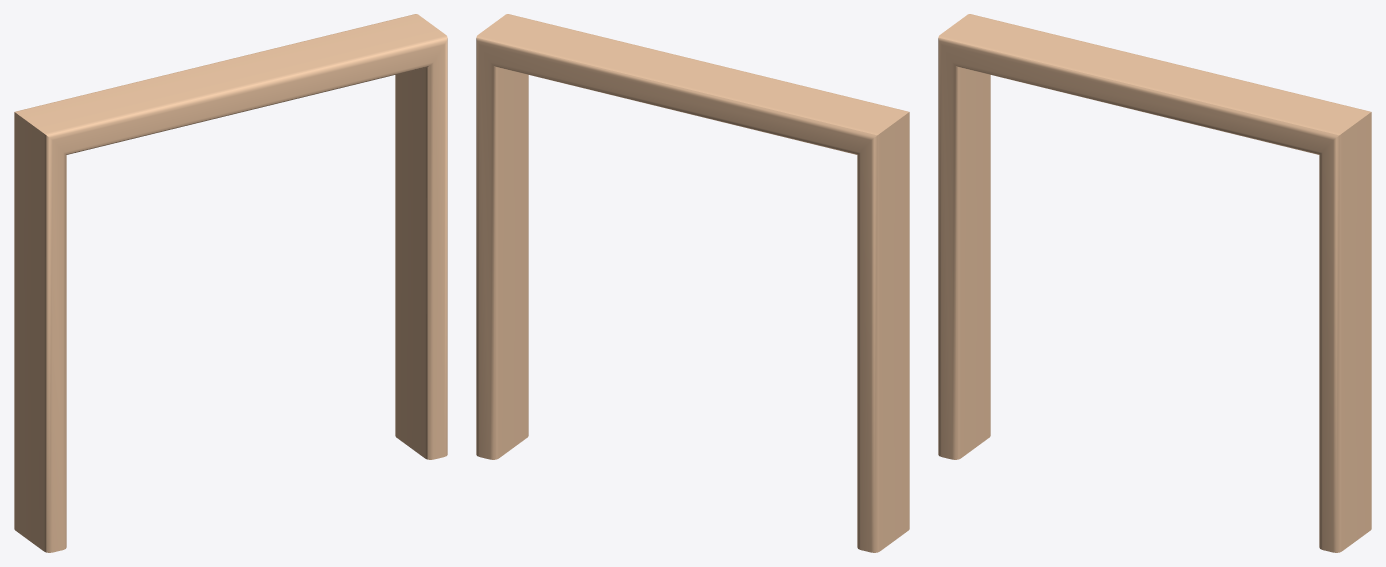
File: Door_Edge_2.fbx
3 views of the same model, side by side, from view 1: azimuth 30°, elevation 25°; view 2: azimuth 150°, elevation 25°; view 3: azimuth 330°, elevation 25° (orthographic).
Visible parts, largest first — view 1: Door_Edge_2; view 2: Door_Edge_2; view 3: Door_Edge_2.
Boxes of the visible parts, x1,y1,x2,y2 form: Door_Edge_2: (14, 14, 447, 552); Door_Edge_2: (476, 14, 909, 552); Door_Edge_2: (938, 14, 1371, 552).
Bounding box in the file's own units: 111 × 111 × 16.89.
